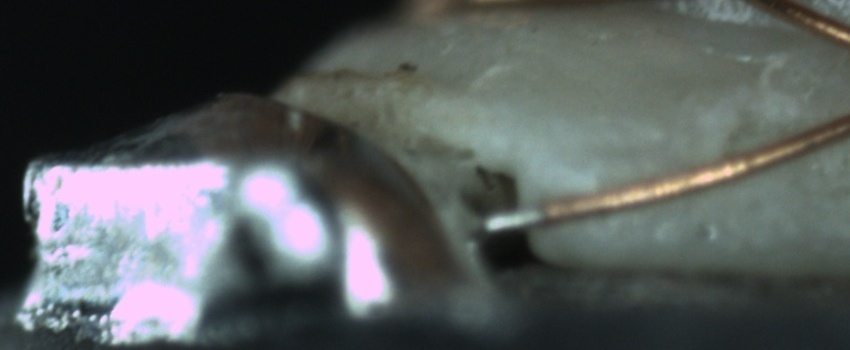DL: (548, 126, 673, 183)
TS: (481, 202, 539, 235)
